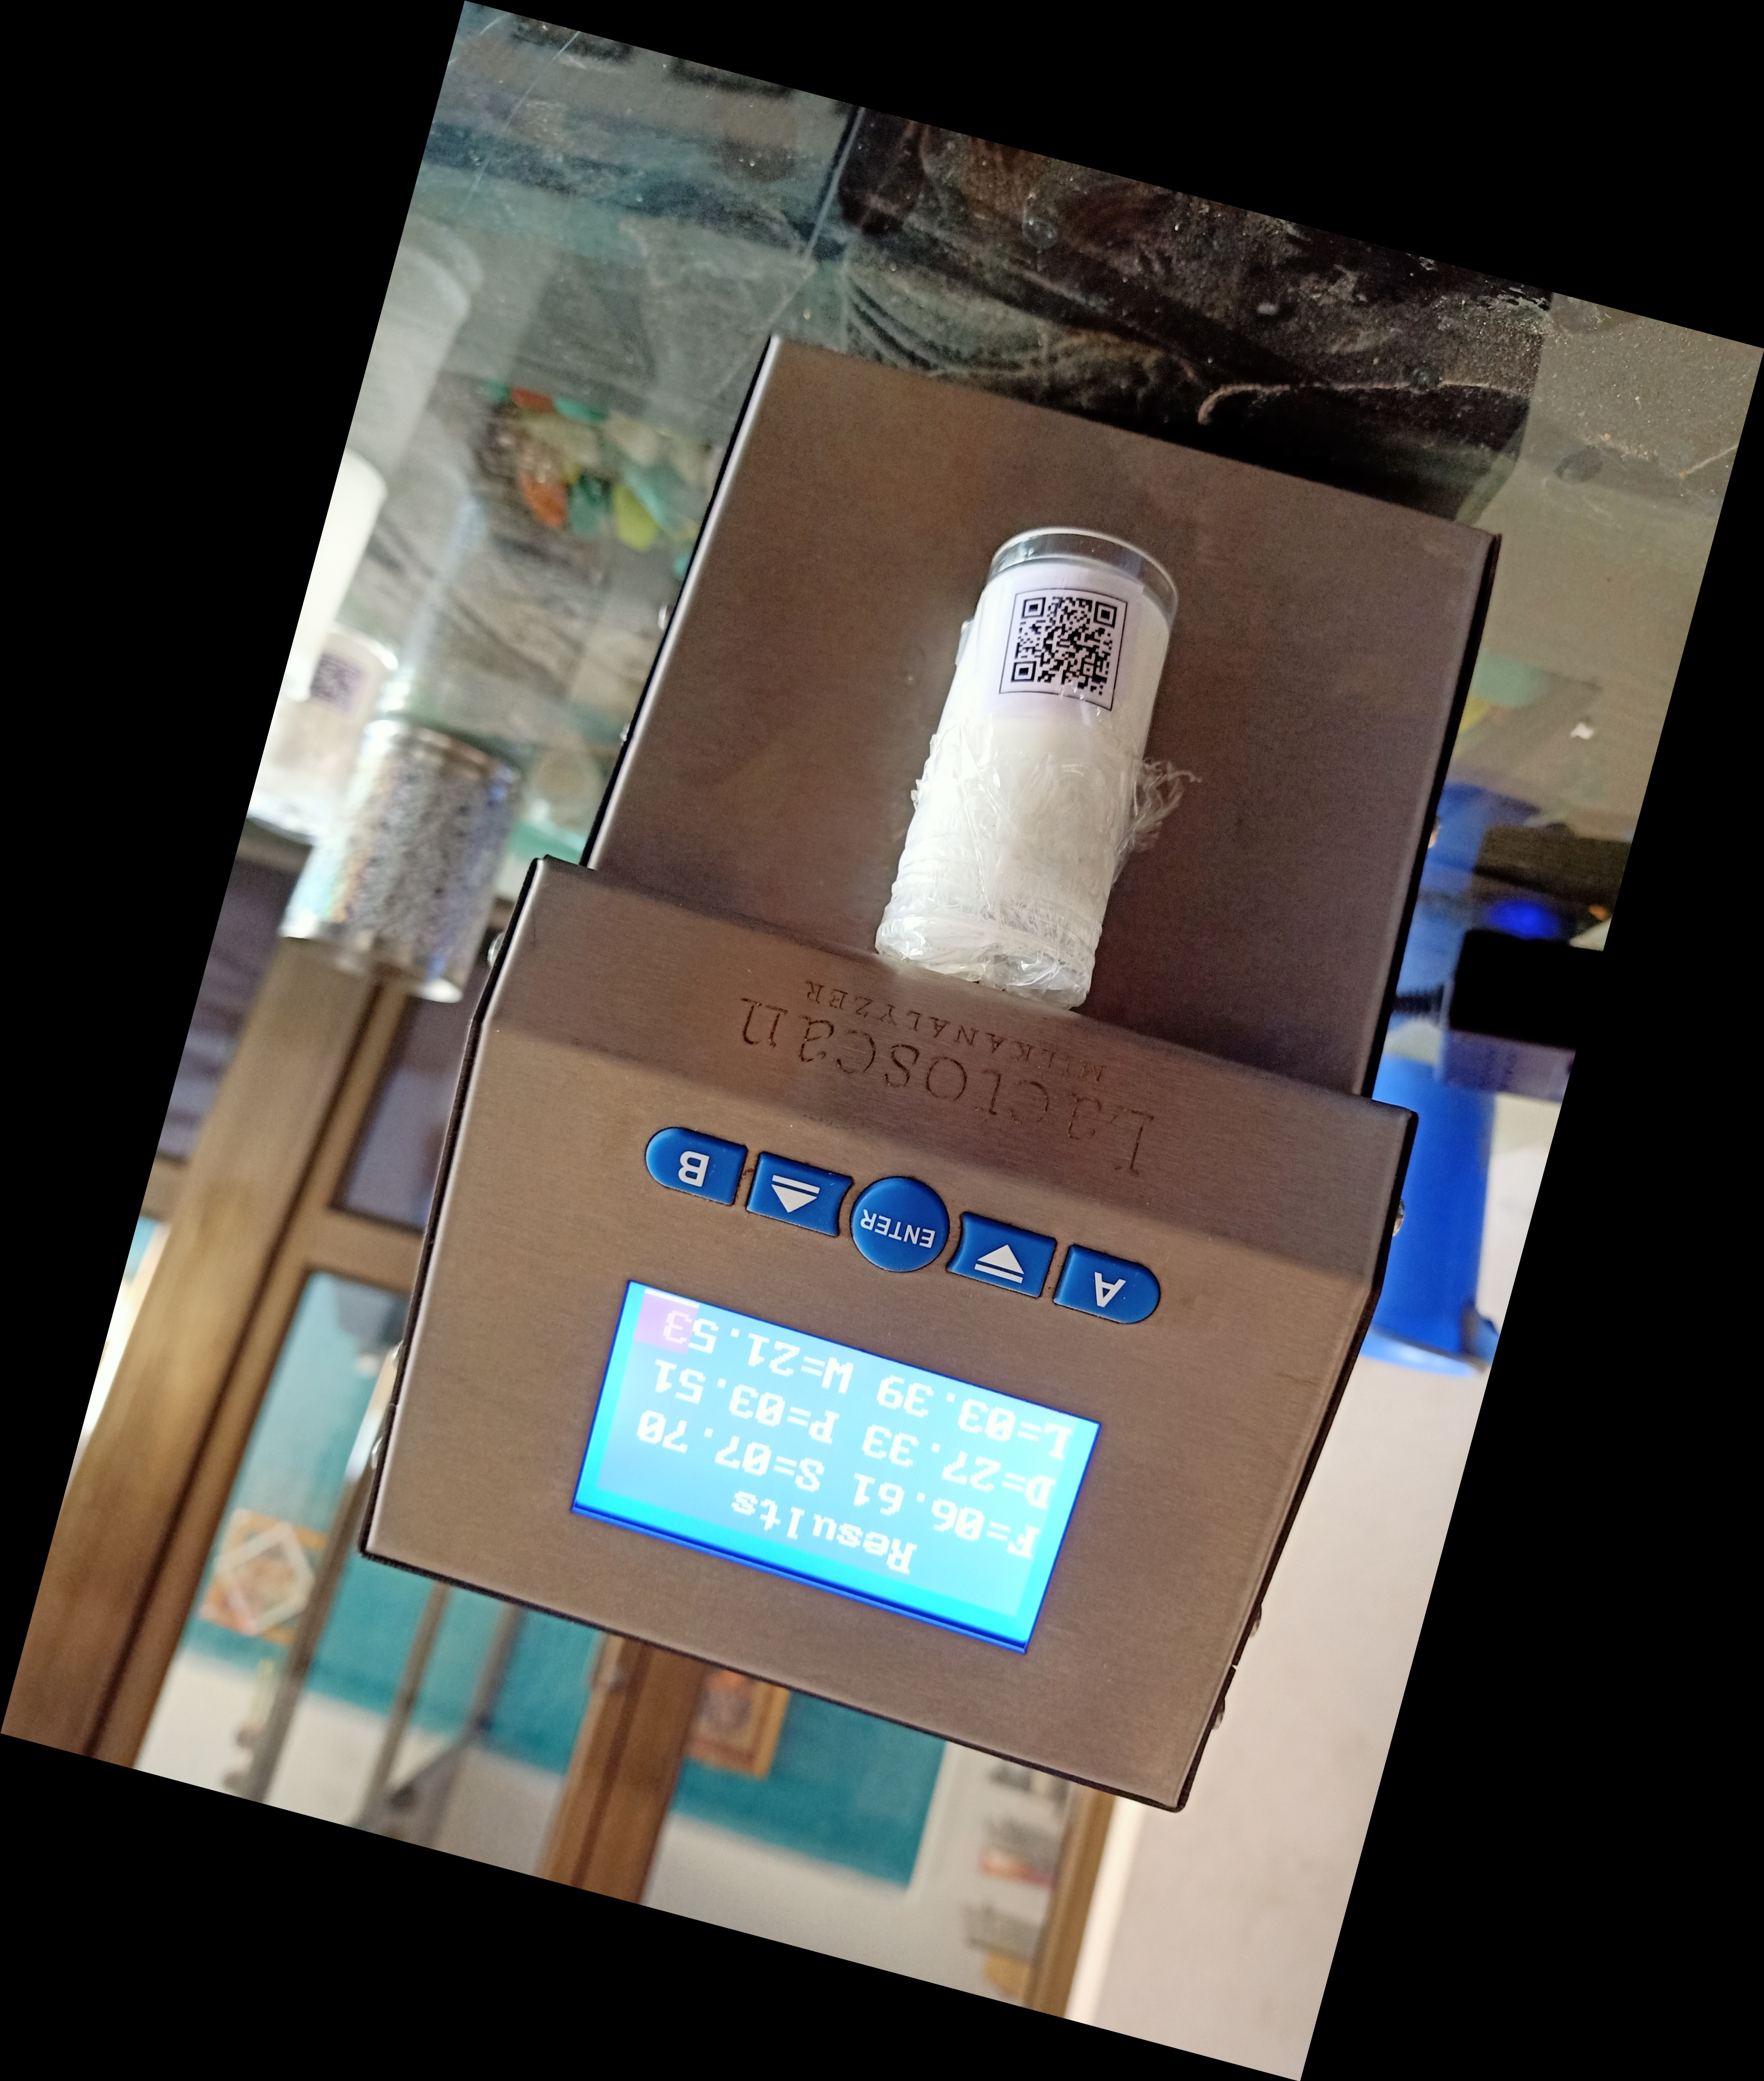lcd: (560, 1264, 1104, 1668)
qr: (999, 572, 1136, 737)
